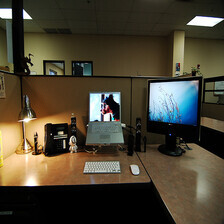laptop: (80, 88, 134, 153)
